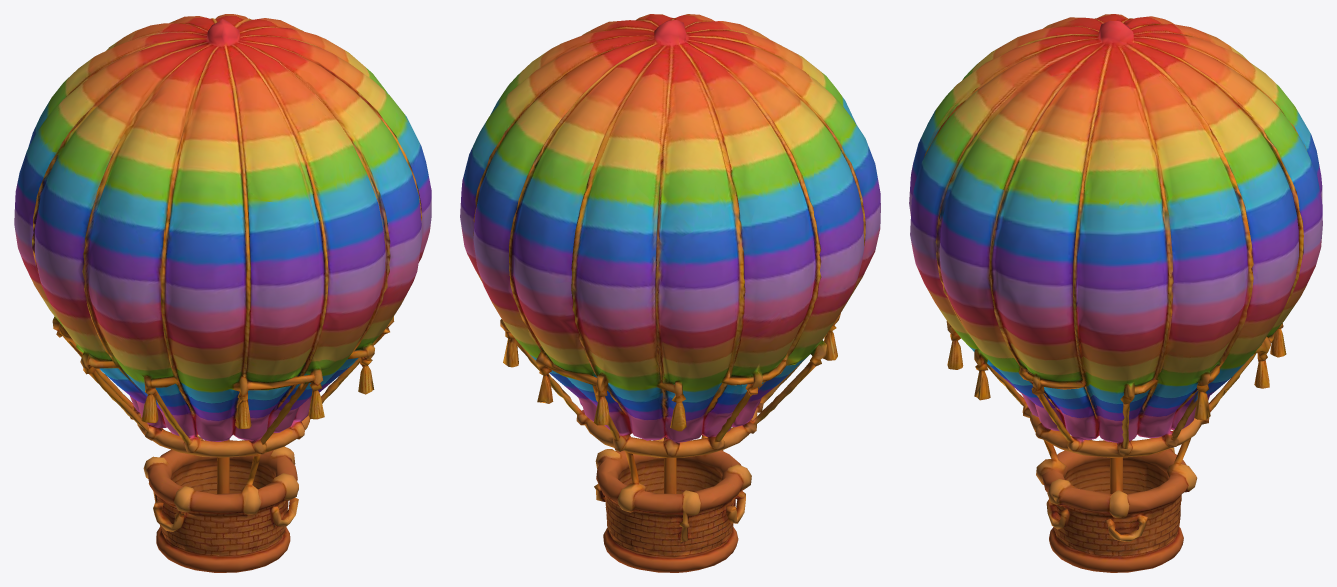
The model's file is hot_air_balloon.glb.
The picture shows the model from 3 angles, left to right: view 1: azimuth 30°, elevation 25°; view 2: azimuth 150°, elevation 25°; view 3: azimuth 270°, elevation 25°; orthographic projection.
Parts seen in each view (by area): view 1: tripo_node_645e907e-a996-428a-8df2-426ce14e79ab; view 2: tripo_node_645e907e-a996-428a-8df2-426ce14e79ab; view 3: tripo_node_645e907e-a996-428a-8df2-426ce14e79ab.
Part boxes in pixels (bbox=[...]): tripo_node_645e907e-a996-428a-8df2-426ce14e79ab: bbox=[14, 14, 431, 572]; tripo_node_645e907e-a996-428a-8df2-426ce14e79ab: bbox=[460, 14, 880, 572]; tripo_node_645e907e-a996-428a-8df2-426ce14e79ab: bbox=[909, 14, 1322, 572].
Size of the model in its own units: 0.3603 by 0.5 by 0.3554.
Materials: 1 (1 with a texture image).
